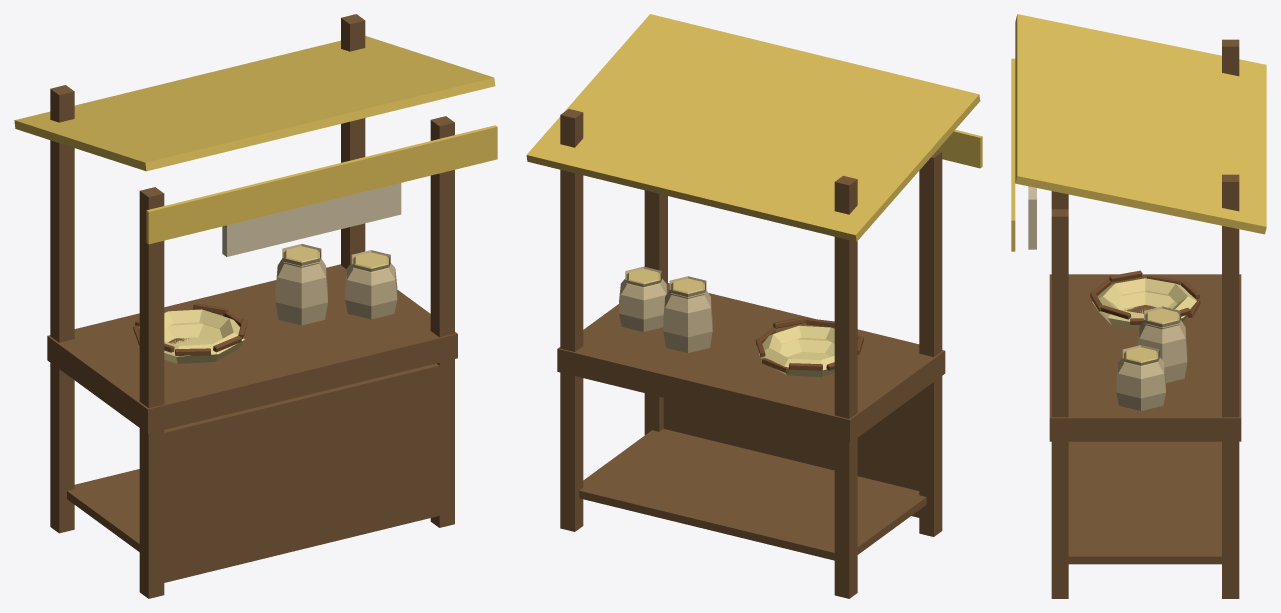
Rendered from Prop_YTM_Stall_Eggs_LOD1.glb.
The picture shows the model from 3 angles, left to right: view 1: azimuth 30°, elevation 25°; view 2: azimuth 150°, elevation 25°; view 3: azimuth 270°, elevation 25°; orthographic projection. The views are drawn at different scales.
Parts seen in each view (by area): view 1: Prop_YTM_Stall_Eggs, Prop_YTM_Stall_Eggs_Groats, Prop_YTM_Stall_Eggs_Goods; view 2: Prop_YTM_Stall_Eggs, Prop_YTM_Stall_Eggs_Groats, Prop_YTM_Stall_Eggs_Goods; view 3: Prop_YTM_Stall_Eggs, Prop_YTM_Stall_Eggs_Groats, Prop_YTM_Stall_Eggs_Goods.
Part boxes in pixels (x1,y1,x2,y2): Prop_YTM_Stall_Eggs: (14, 14, 497, 598); Prop_YTM_Stall_Eggs_Groats: (275, 244, 397, 325); Prop_YTM_Stall_Eggs_Goods: (133, 303, 247, 363); Prop_YTM_Stall_Eggs: (526, 14, 982, 598); Prop_YTM_Stall_Eggs_Groats: (619, 266, 712, 352); Prop_YTM_Stall_Eggs_Goods: (755, 317, 863, 377); Prop_YTM_Stall_Eggs: (1011, 14, 1266, 598); Prop_YTM_Stall_Eggs_Groats: (1116, 306, 1187, 410); Prop_YTM_Stall_Eggs_Goods: (1090, 270, 1200, 330).
Bounding box in the file's own units: 1.8 × 2.24 × 1.2.
